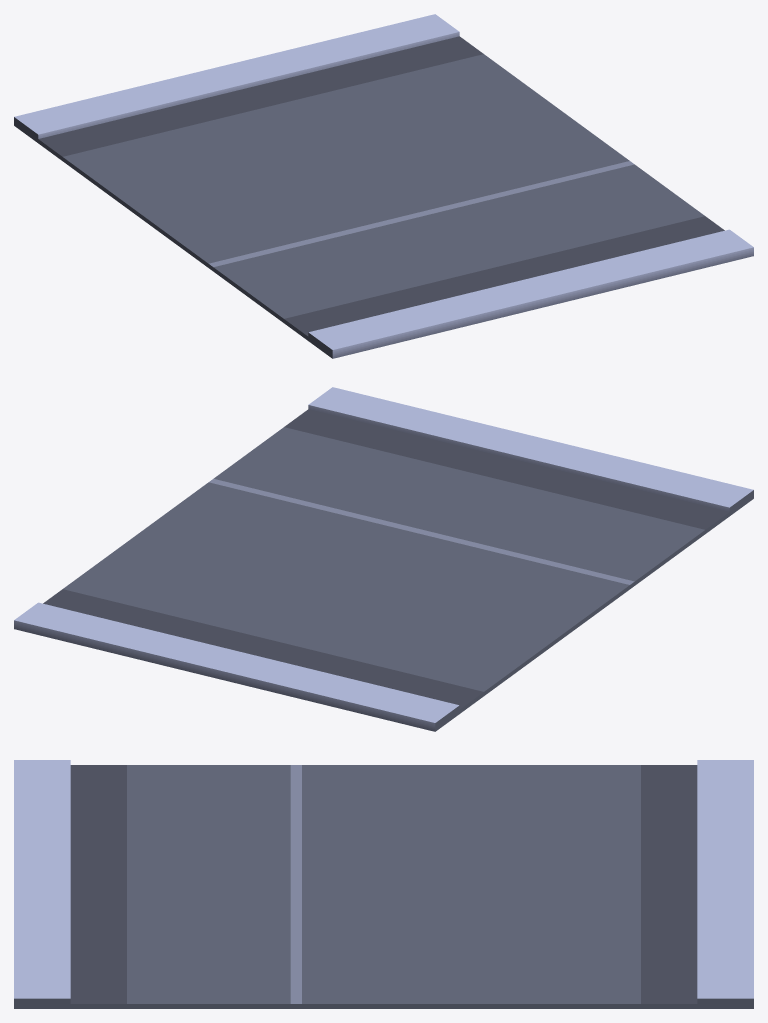
The model's file is roads.road_side.glb.
The picture shows the model from 3 angles, top to bottom: view 1: azimuth 30°, elevation 25°; view 2: azimuth 150°, elevation 25°; view 3: azimuth 270°, elevation 25°; orthographic projection. The views are drawn at different scales.
Parts seen in each view (by area): view 1: road-side; view 2: road-side; view 3: road-side.
Boxes of the visible parts, bbox=[...] form: road-side: bbox=[14, 14, 753, 358]; road-side: bbox=[14, 387, 753, 731]; road-side: bbox=[14, 760, 753, 1008].
Bounding box in the file's own units: 7.45 × 0.1489 × 9.76.
Materials: 1 (1 with a texture image).
